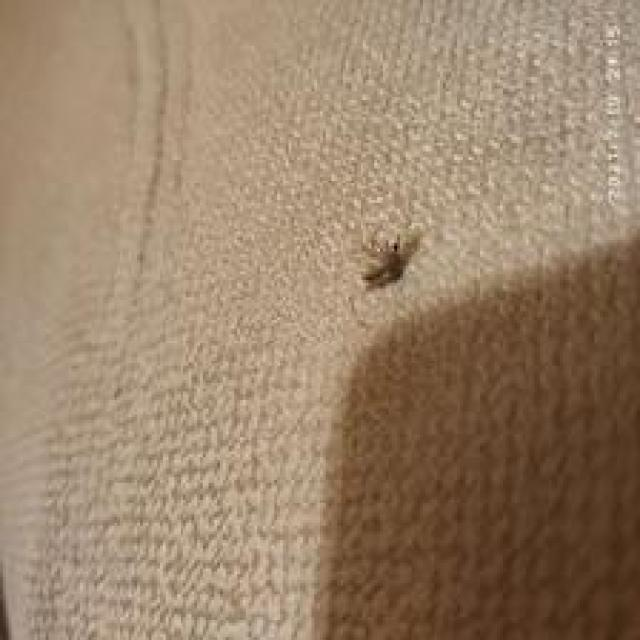Culex: (356, 223, 424, 291)
